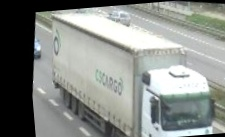truck: (37, 0, 225, 137)
